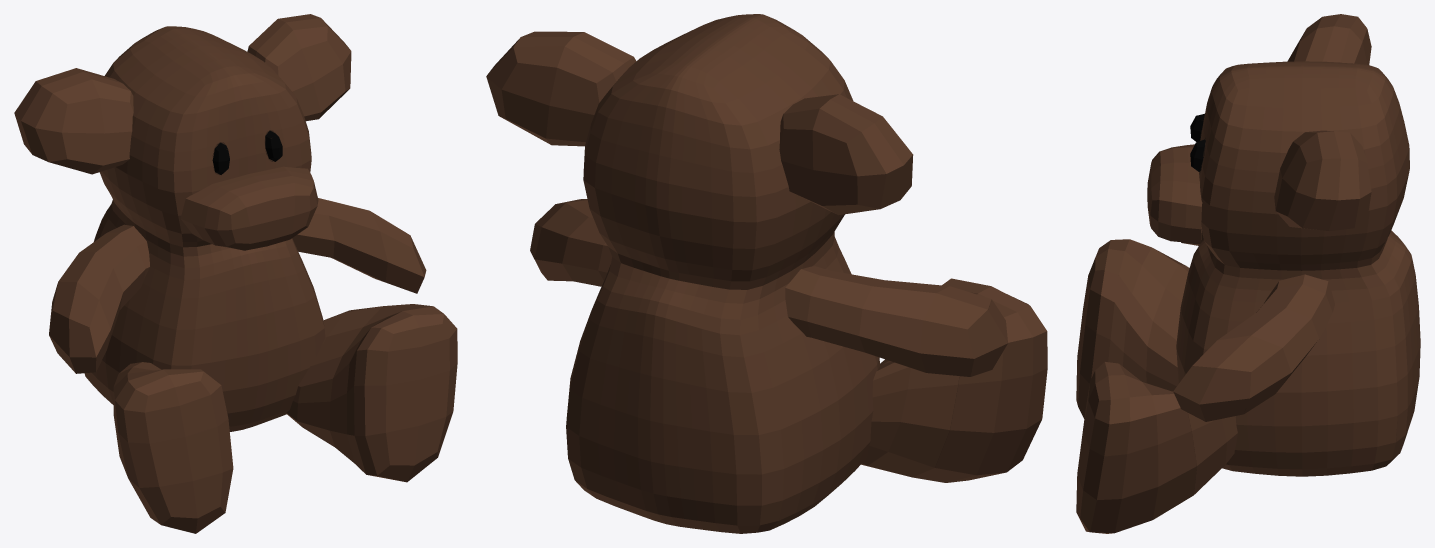
The model's file is MIS v5.fbx.
3 views of the same model, side by side, from view 1: azimuth 30°, elevation 25°; view 2: azimuth 150°, elevation 25°; view 3: azimuth 270°, elevation 25° (orthographic). The views are drawn at different scales.
Visible parts, largest first — view 1: Bake; view 2: Bake; view 3: Bake.
Part boxes in pixels (x1,y1,x2,y2): Bake: (14, 14, 457, 533); Bake: (486, 14, 1047, 533); Bake: (1076, 14, 1420, 533).
Bounding box in the file's own units: 196 × 205 × 155.
1 material, 1 textured.
